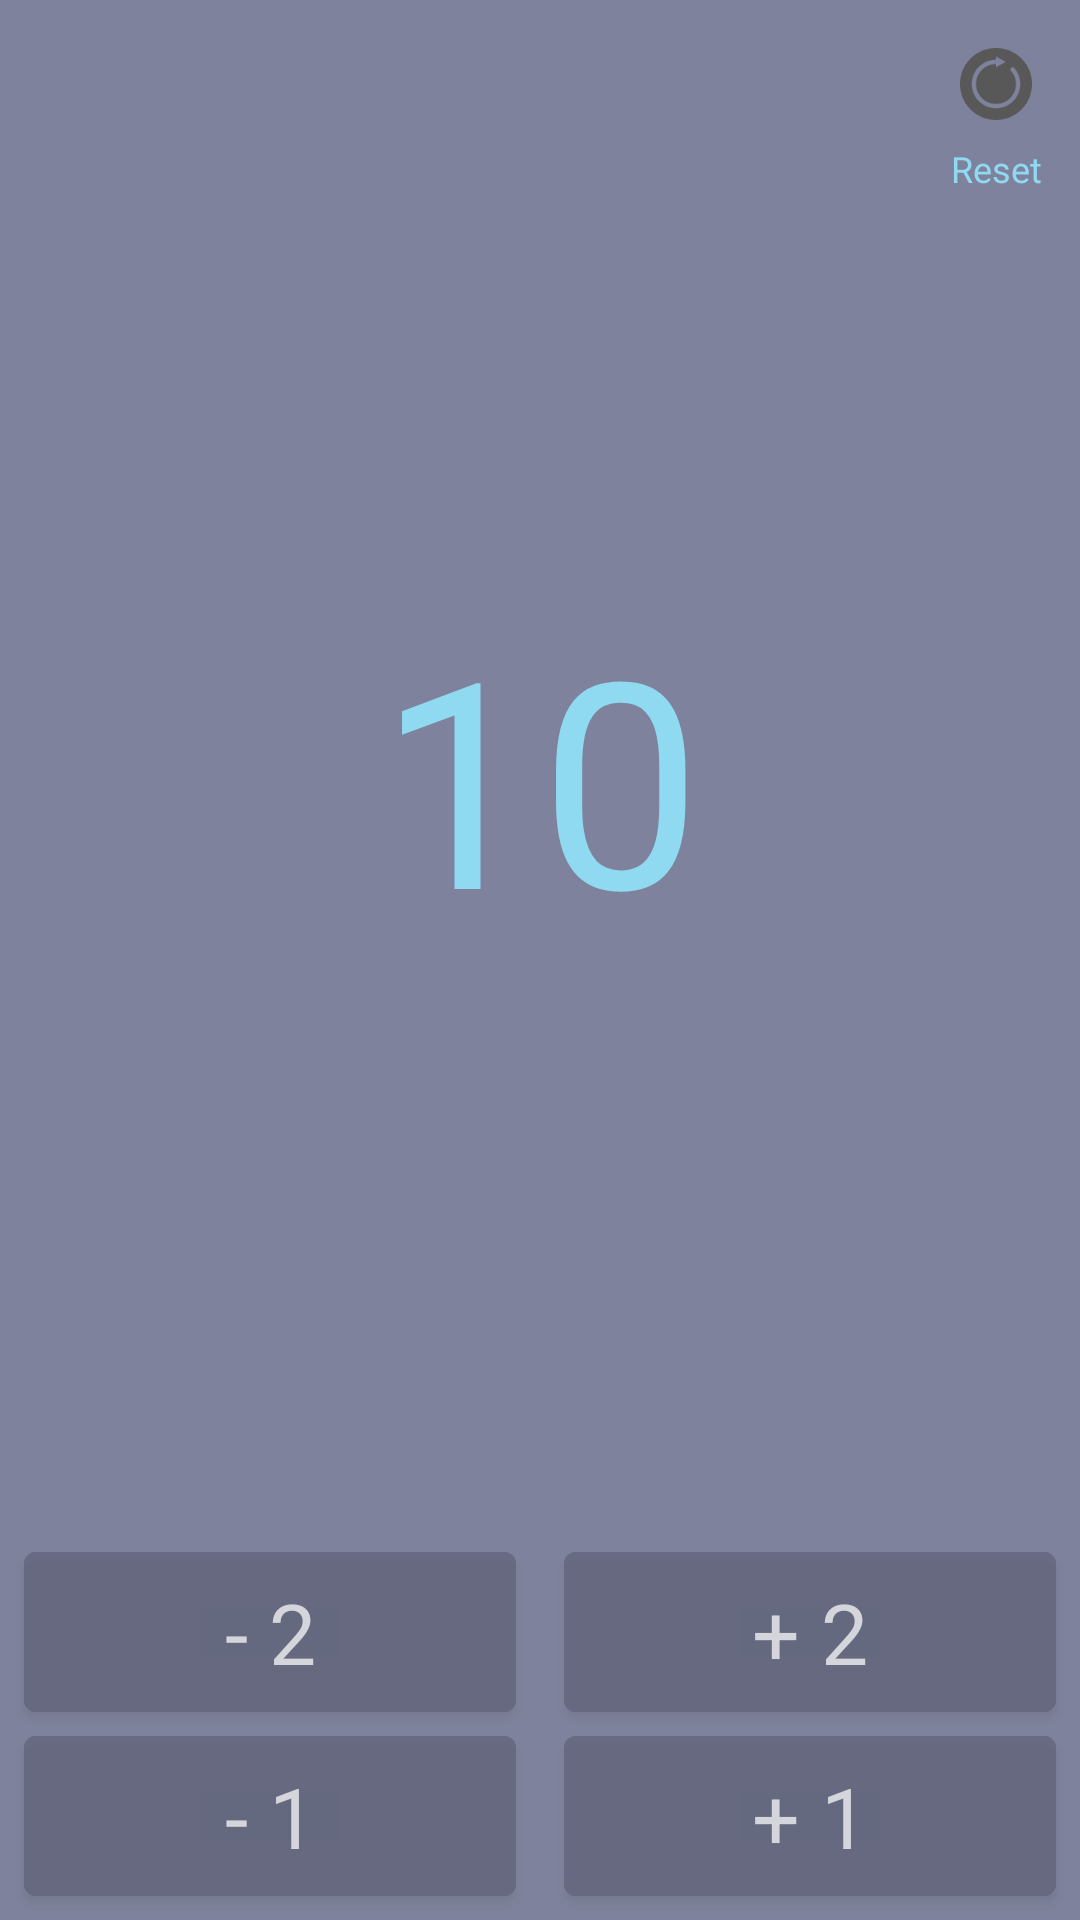

Icons on this 1080w x 1920h Android screen, each with its box as (left=x1, top=y1, right=x2, bottom=y2):
refresh: (left=960, top=48, right=1032, bottom=120)
